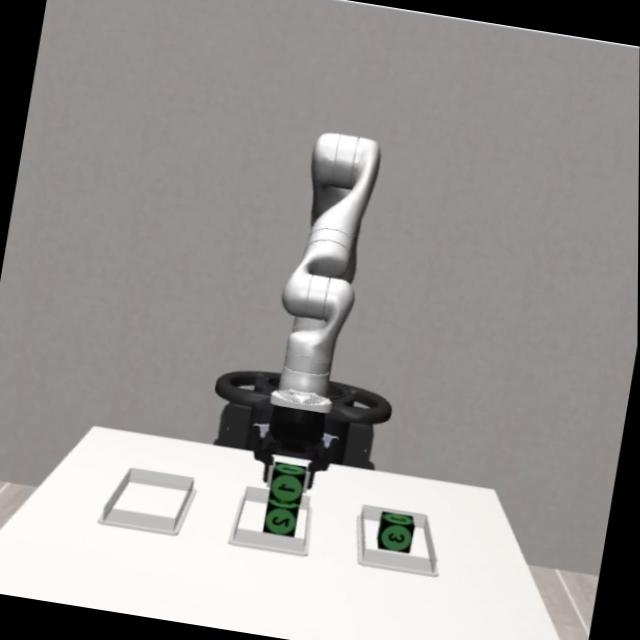cube1: (265, 460, 308, 506)
cube2: (262, 498, 300, 537)
cube3: (377, 510, 419, 553)
